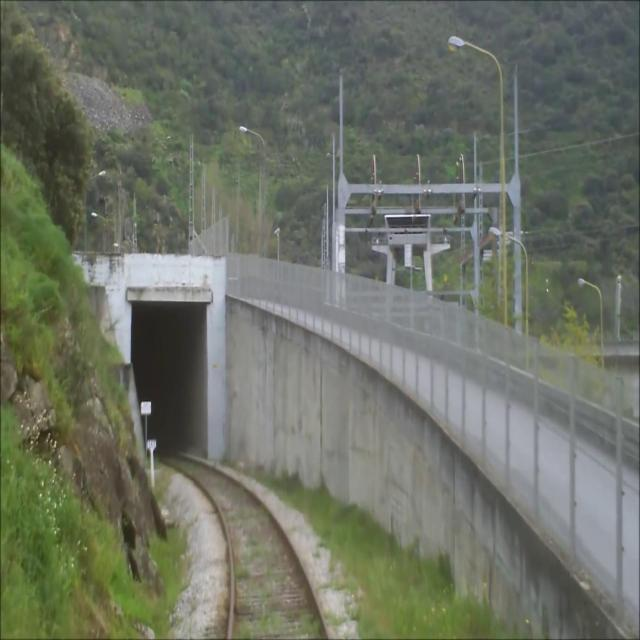rail-track: (164, 456, 325, 639)
